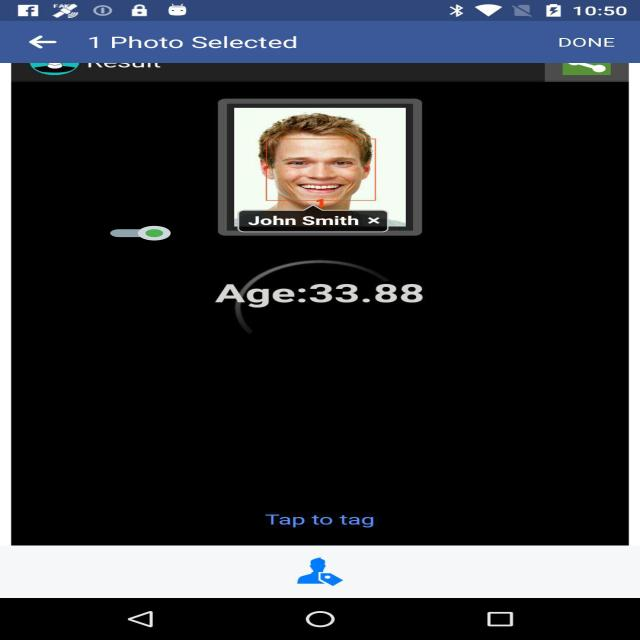social proof: (110, 220, 171, 247)
